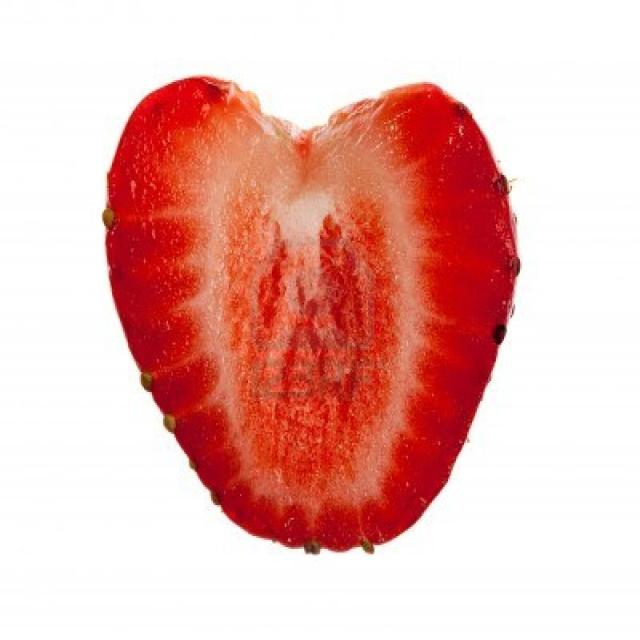strawberry: (86, 49, 534, 595)
